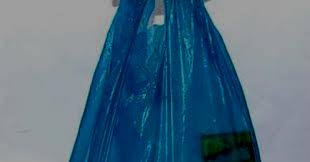Plastic: (68, 0, 261, 160)
